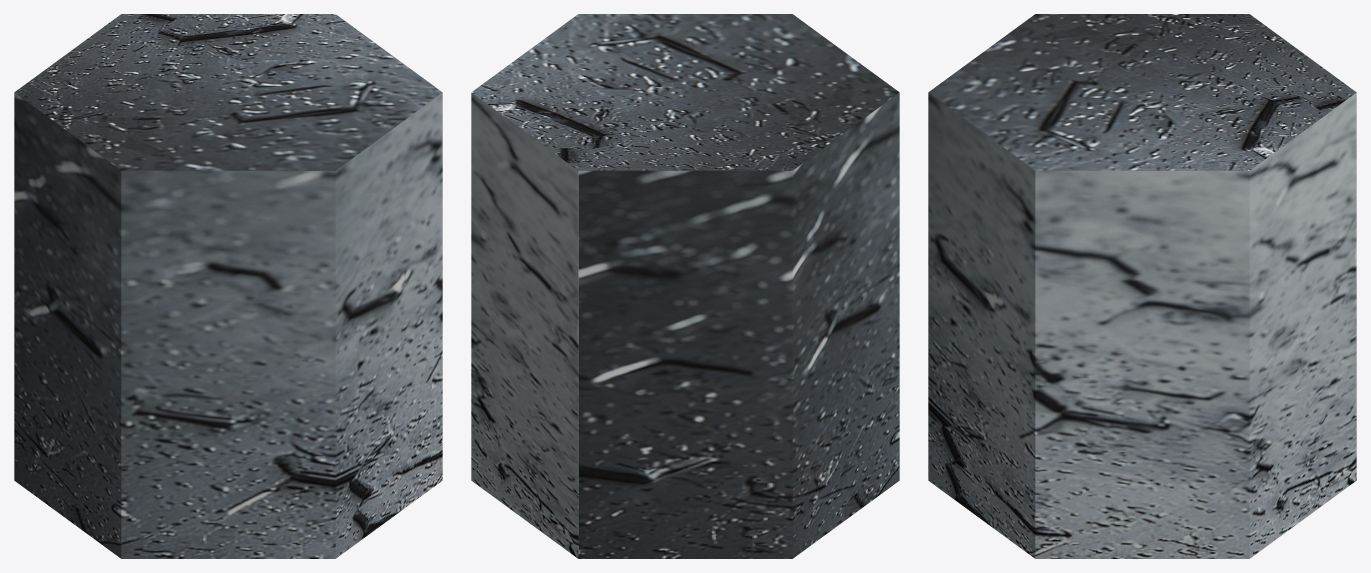
File: HexCylT001.fbx
The picture shows the model from 3 angles, left to right: view 1: azimuth 30°, elevation 25°; view 2: azimuth 150°, elevation 25°; view 3: azimuth 270°, elevation 25°; orthographic projection.
Visible parts, largest first — view 1: Cylinder; view 2: Cylinder; view 3: Cylinder.
Part boxes in pixels (bbox=[...]): Cylinder: bbox=[14, 14, 442, 558]; Cylinder: bbox=[471, 14, 899, 558]; Cylinder: bbox=[928, 14, 1356, 558].
Bounding box in the file's own units: 173 × 200 × 200.
1 material, 1 textured.
